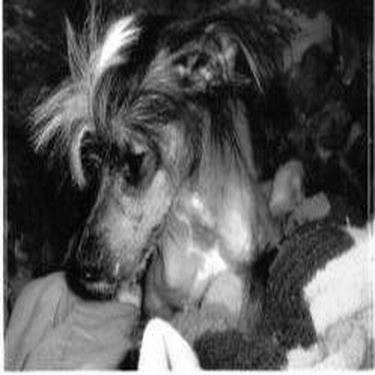dog: (20, 4, 371, 317)
